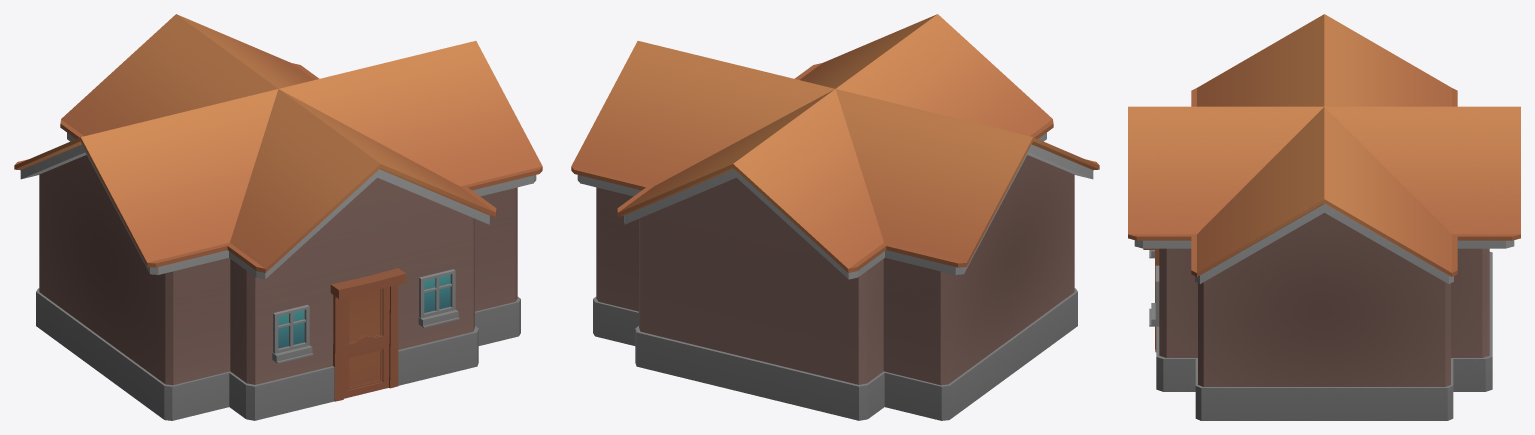
The model's file is SuburbanHouse_v2.fbx.
3 renders of one model, left to right at view 1: azimuth 30°, elevation 25°; view 2: azimuth 150°, elevation 25°; view 3: azimuth 270°, elevation 25°, orthographic. The views are drawn at different scales.
Parts seen in each view (by area): view 1: Floor_4; view 2: Floor_4; view 3: Floor_4.
Boxes of the visible parts, bbox=[...] form: Floor_4: bbox=[14, 14, 542, 420]; Floor_4: bbox=[571, 14, 1099, 420]; Floor_4: bbox=[1128, 14, 1520, 420].
Size of the model in its own units: 347 by 202 by 311.
Materials: 1 (1 with a texture image).
